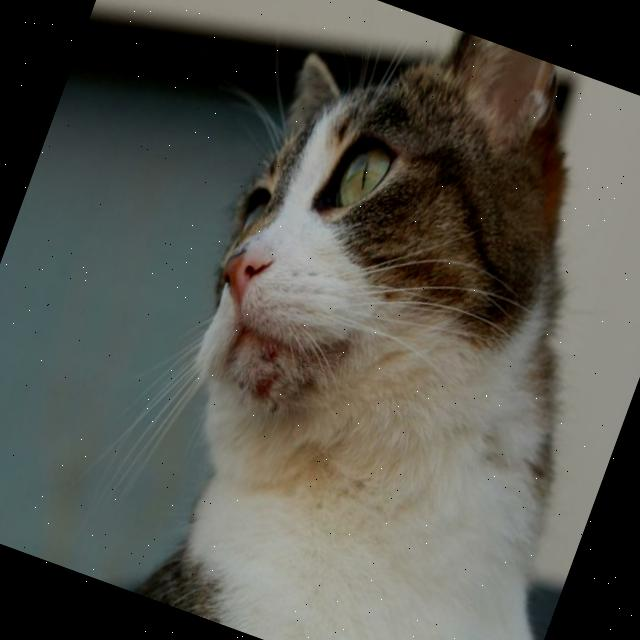cat-acne: (250, 367, 280, 402), (257, 338, 283, 366)
